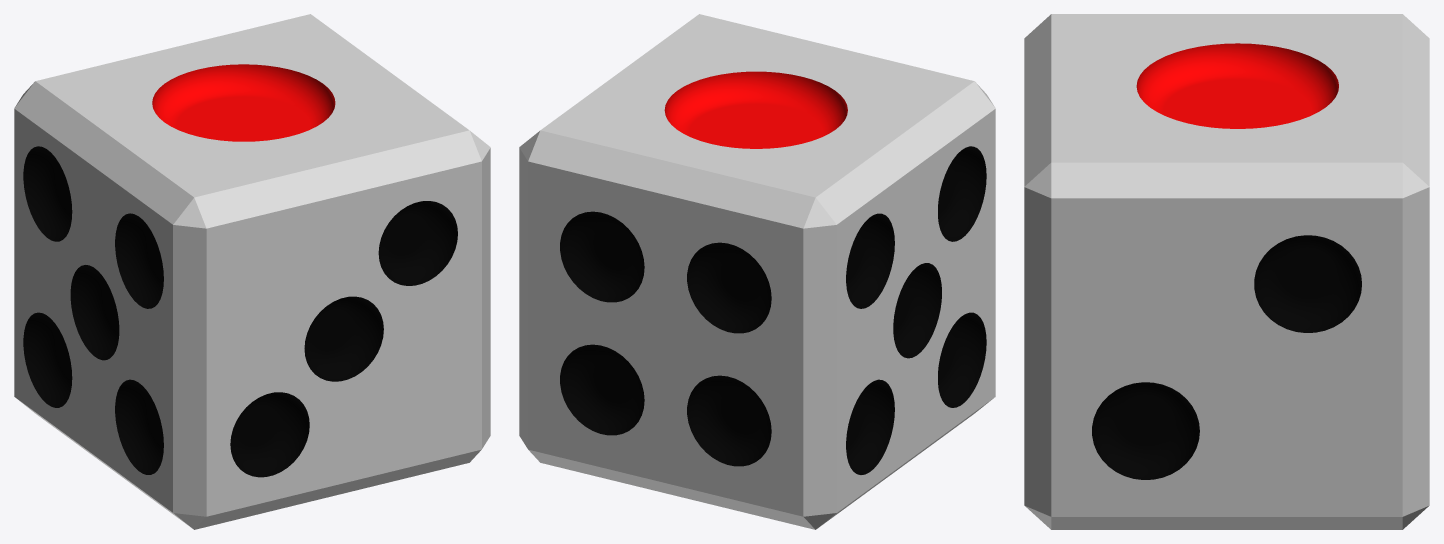
File: saikoro.glb
The picture shows the model from 3 angles, left to right: view 1: azimuth 30°, elevation 25°; view 2: azimuth 150°, elevation 25°; view 3: azimuth 270°, elevation 25°; orthographic projection. The views are drawn at different scales.
Visible parts, largest first — view 1: サイコロ; view 2: サイコロ; view 3: サイコロ.
Boxes of the visible parts, <box> form: サイコロ: <box>14,14,490,529</box>; サイコロ: <box>519,14,995,529</box>; サイコロ: <box>1024,14,1429,529</box>.
Bounding box in the file's own units: 0.03 × 0.03 × 0.03.
